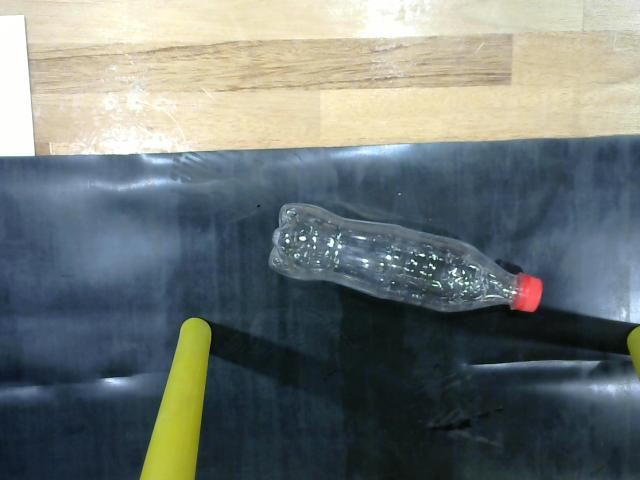bottle: (266, 196, 548, 319)
